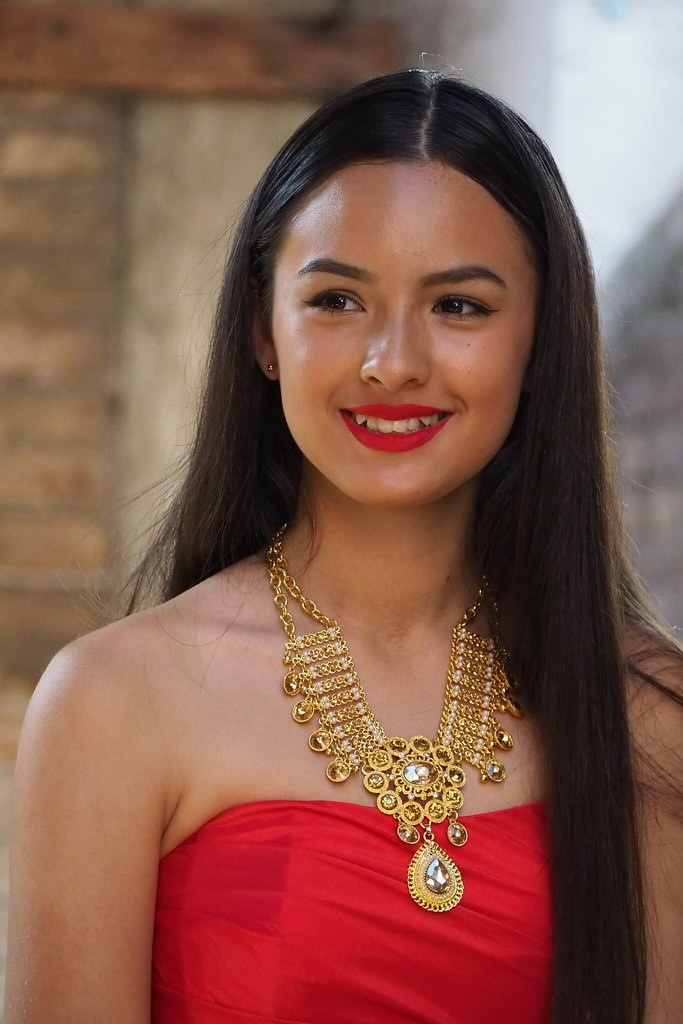face_no_mask: (244, 80, 572, 511)
